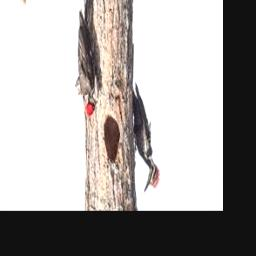Woodpecker: (132, 84, 160, 194), (77, 0, 98, 117)
